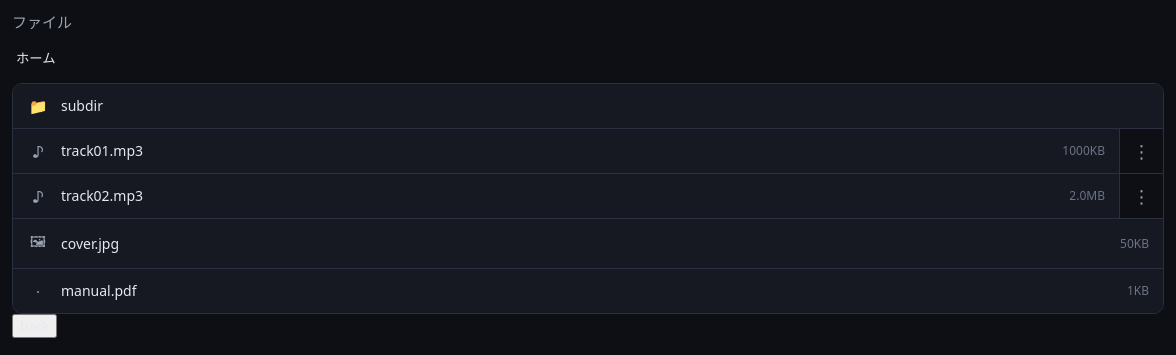
Test: FileBrowser 再生中ファイルのインジケータ (issue #31) › サブディレクトリ内でも joined path が一致すれば強調される
Check: the text "track01.mp3" is shown, box [61,141,143,160]
Click the button "📁 subdir" at (82, 106), box [13,84,1163,128]
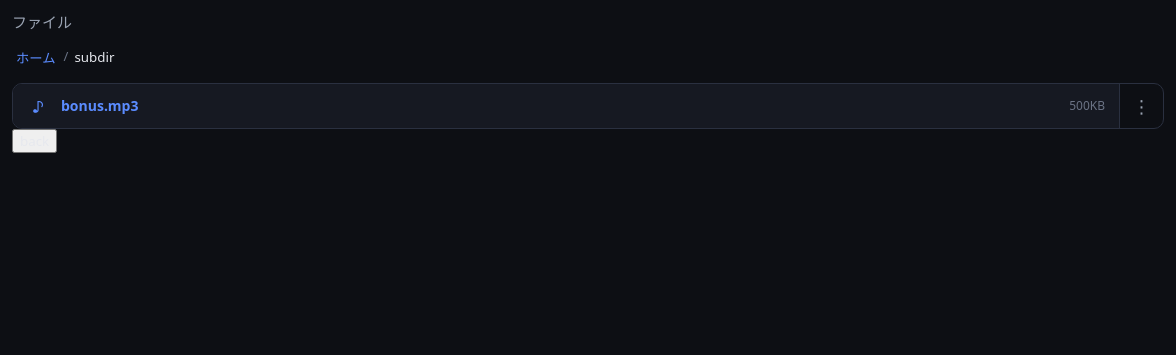
Check: the text "bonus.mp3" is shown, box [61,96,138,115]
